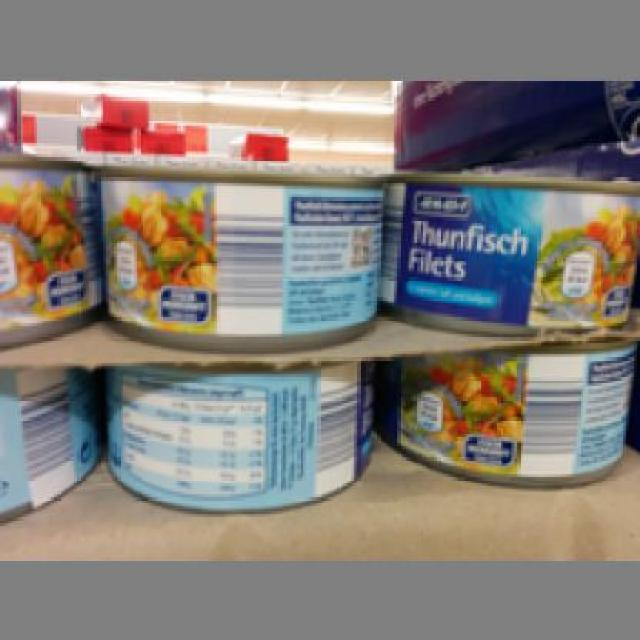Fish: (94, 160, 383, 343), (372, 317, 634, 494), (103, 352, 377, 512), (380, 157, 634, 326)
